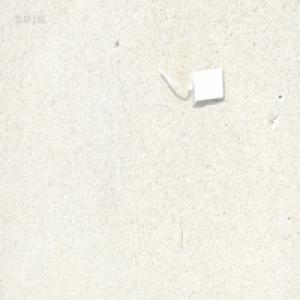LuggageTag: (155, 64, 226, 106)
